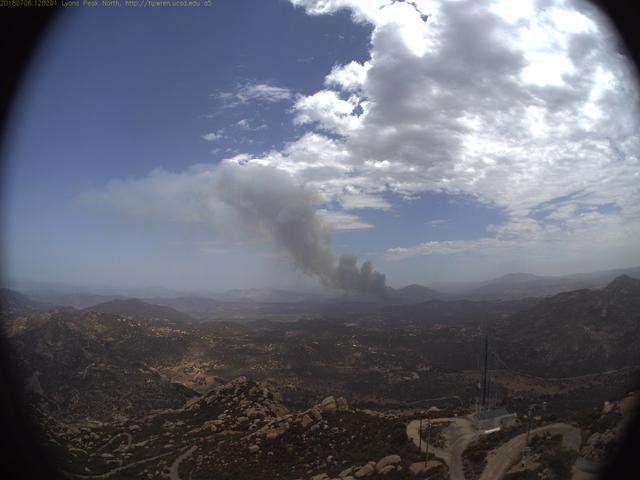smoke: (140, 156, 419, 315)
